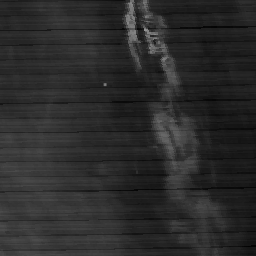Target: (102, 81, 108, 88)
